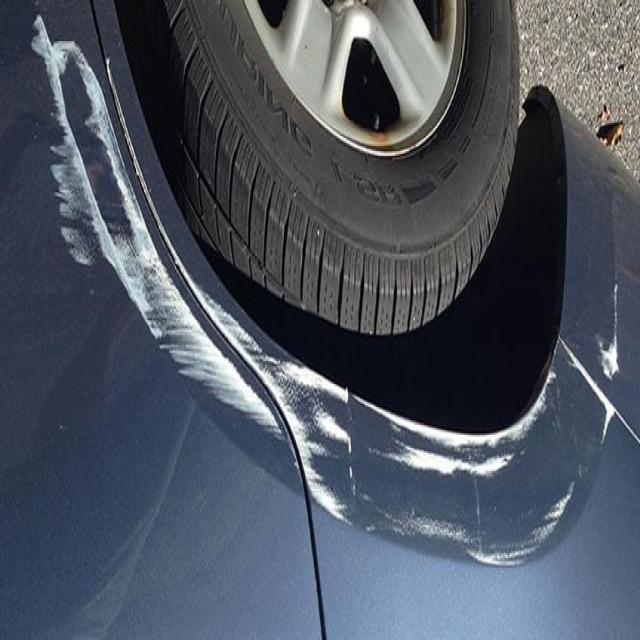scratch: (11, 9, 357, 560), (366, 370, 624, 590)
